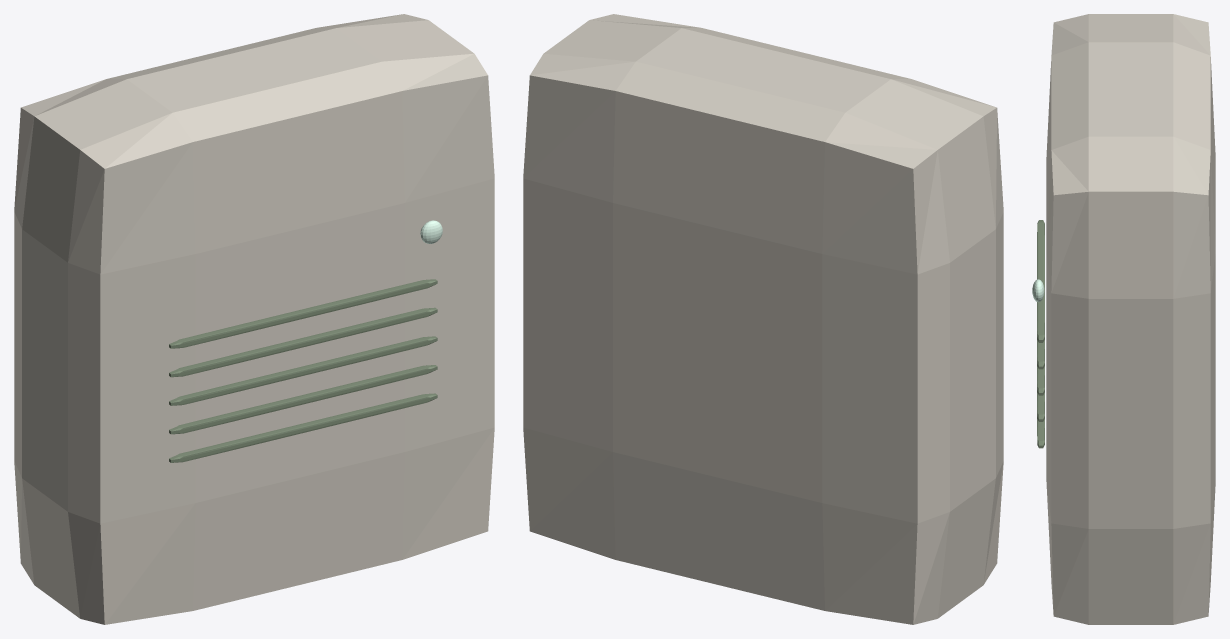
The model's file is best.glb.
3 views of the same model, side by side, from view 1: azimuth 30°, elevation 25°; view 2: azimuth 150°, elevation 25°; view 3: azimuth 270°, elevation 25° (orthographic). The views are drawn at different scales.
Visible parts, largest first — view 1: Native component 0, Native component 2; view 2: Native component 0; view 3: Native component 0, Native component 2.
Boxes of the visible parts, bbox=[...] form: Native component 0: bbox=[14, 14, 494, 624]; Native component 2: bbox=[169, 279, 437, 462]; Native component 0: bbox=[523, 14, 1003, 624]; Native component 0: bbox=[1046, 14, 1215, 624]; Native component 2: bbox=[1037, 220, 1044, 448].
Bounding box in the file's own units: 0.66 × 0.75 × 0.271.
